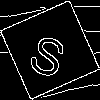S: (25, 25, 74, 80)
